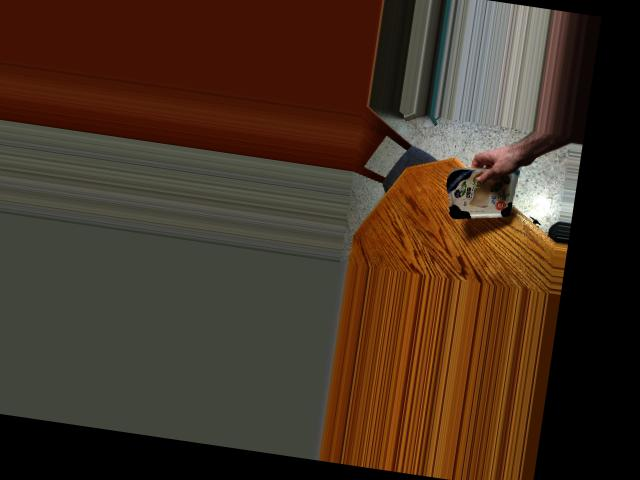cheese: (439, 161, 534, 227)
